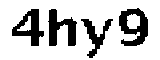4: (10, 7, 46, 48)
9: (117, 6, 152, 52)
h: (46, 5, 79, 52)
y: (79, 13, 114, 60)
